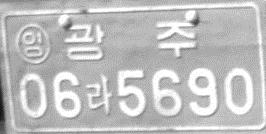0: (223, 66, 253, 116), (18, 72, 48, 119)
5: (116, 68, 147, 117)
6: (151, 67, 182, 117), (52, 70, 81, 119)
9: (187, 67, 218, 117)
광주_D: (63, 20, 197, 61)
라: (85, 73, 113, 116)
영: (15, 23, 51, 65)
